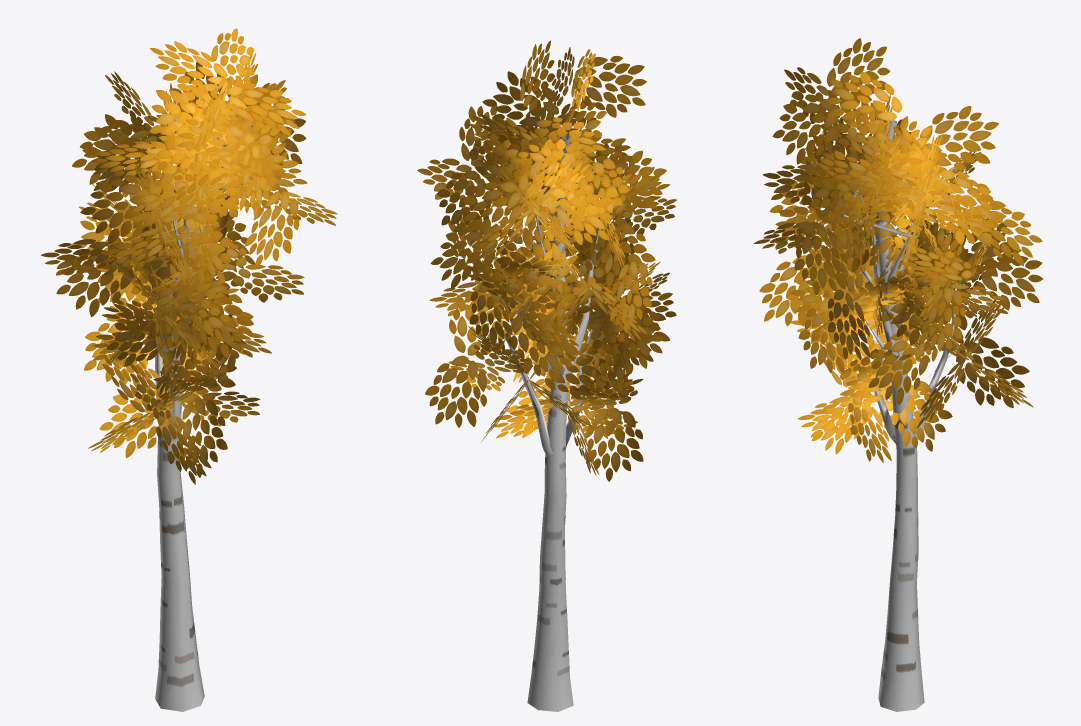
File: Tree01B.glb
3 views of the same model, side by side, from view 1: azimuth 30°, elevation 25°; view 2: azimuth 150°, elevation 25°; view 3: azimuth 270°, elevation 25° (orthographic). The views are drawn at different scales.
Visible parts, largest first — view 1: stylizedTree01.001; view 2: stylizedTree01.001; view 3: stylizedTree01.001.
Part boxes in pixels (x1,y1,x2,y2): stylizedTree01.001: (41,28,337,711); stylizedTree01.001: (417,40,676,711); stylizedTree01.001: (753,38,1042,711).
Size of the model in its own units: 5.99 by 13.39 by 6.09.
Materials: 2 (2 with a texture image).
